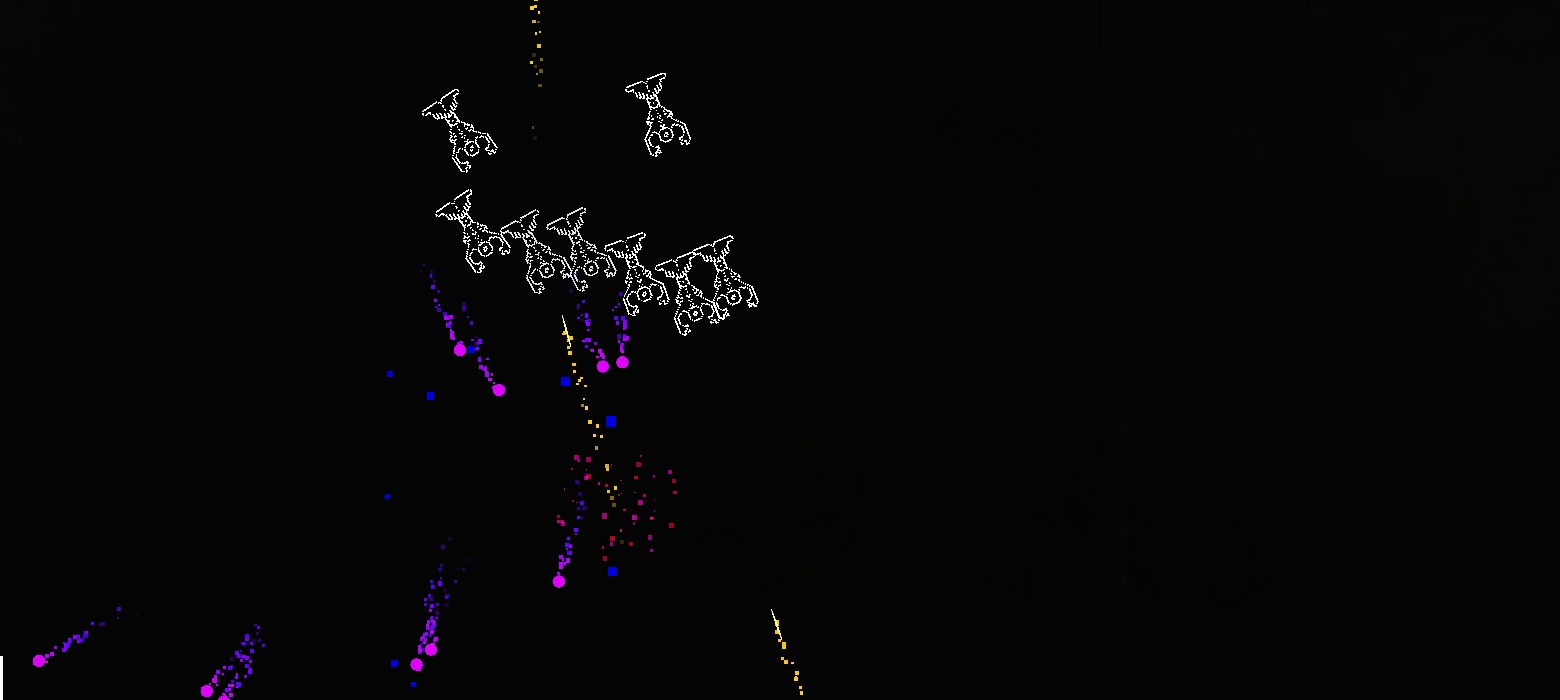enemy: (434, 187, 512, 274), (420, 88, 498, 174), (499, 209, 573, 294), (546, 207, 618, 293), (692, 234, 760, 321), (624, 73, 692, 158), (654, 251, 721, 337), (604, 231, 670, 316)
